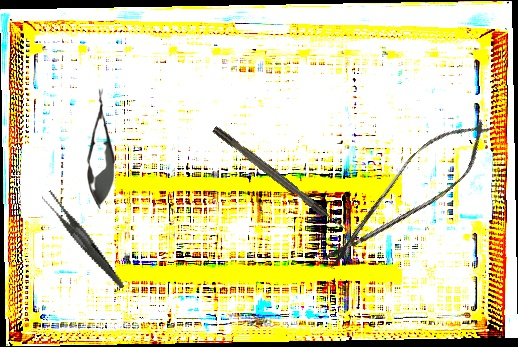Dressing Forceps: (40, 177, 125, 304)
Hook Surgical: (211, 124, 350, 235)
Micro Scissor: (309, 103, 505, 286), (86, 88, 115, 209)
